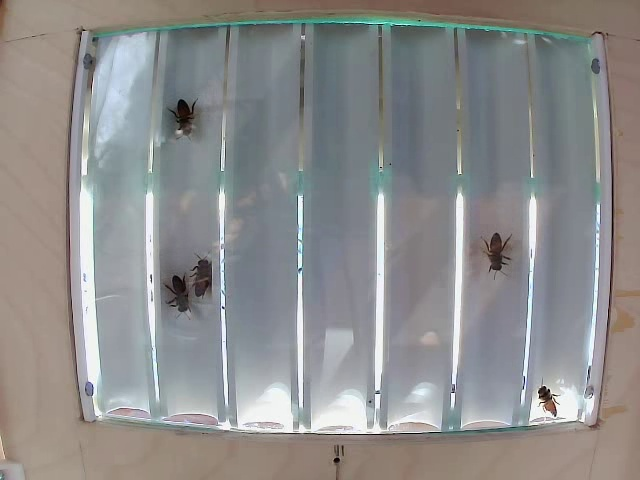bee: (527, 369, 569, 434), (168, 91, 215, 143), (194, 246, 236, 301), (161, 276, 196, 315), (485, 232, 511, 283)
